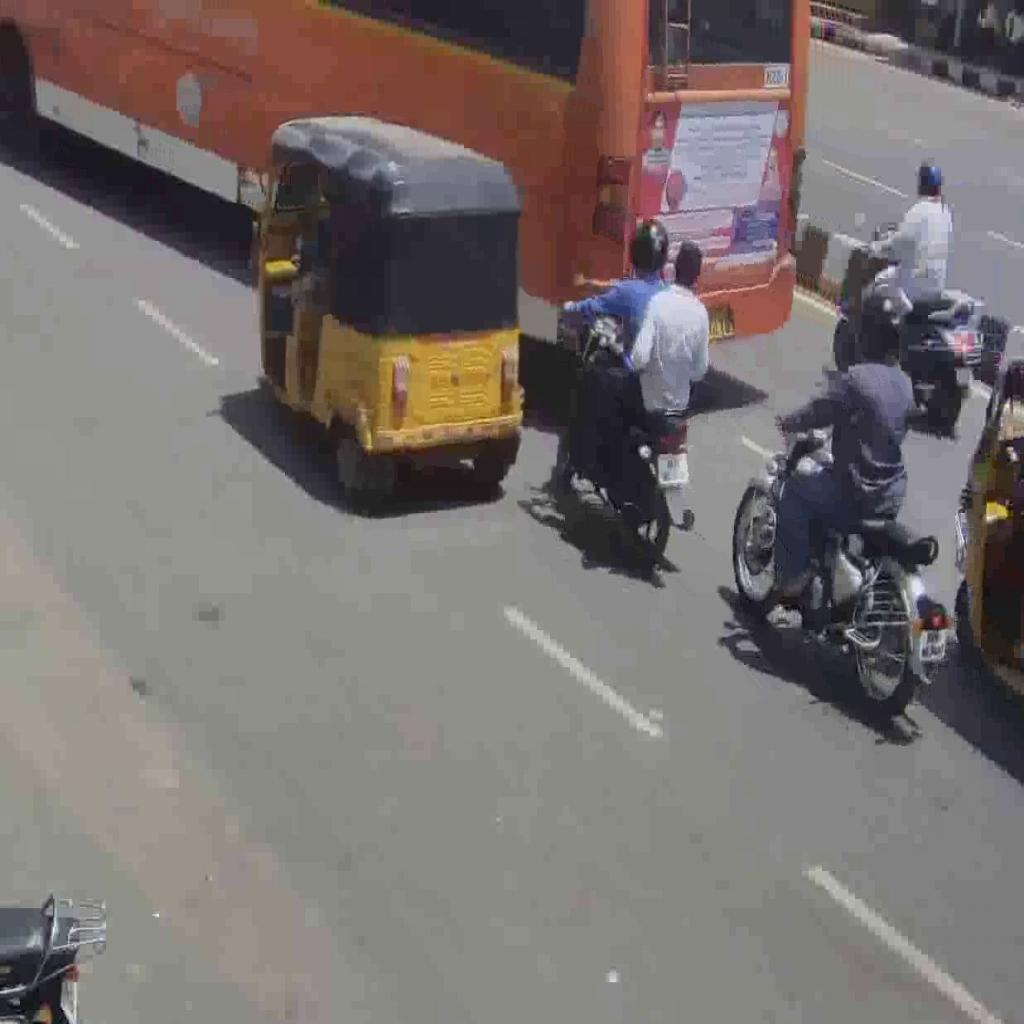helmet: (732, 404, 955, 718), (554, 290, 696, 565), (832, 223, 980, 433)
